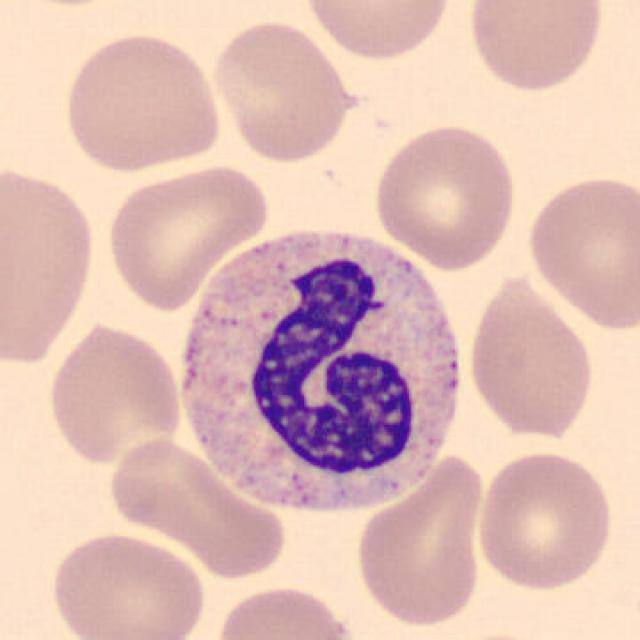Neutrophil: (171, 219, 469, 527)
RBC: (103, 430, 292, 580), (101, 161, 274, 312), (350, 448, 489, 629), (57, 28, 226, 175), (464, 268, 599, 444), (208, 16, 361, 166), (370, 120, 519, 270), (0, 153, 100, 374), (42, 318, 186, 468), (473, 446, 617, 594), (521, 169, 638, 333), (46, 529, 208, 640), (462, 0, 608, 95), (298, 0, 455, 63), (212, 582, 362, 640), (443, 629, 560, 640)
